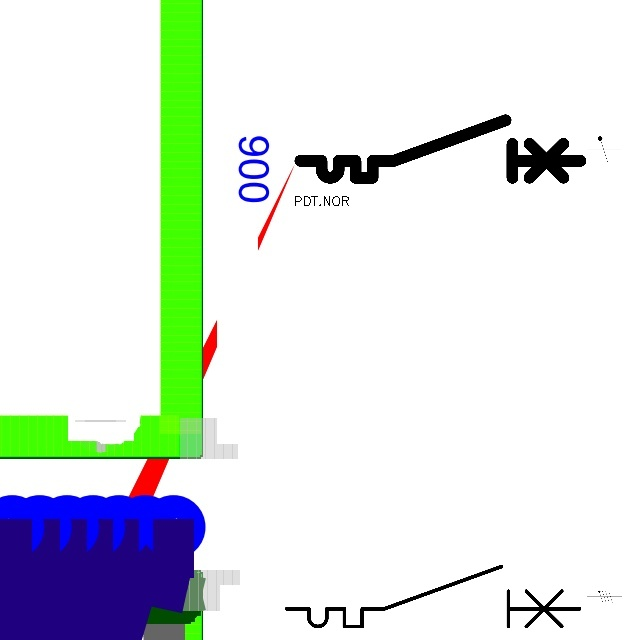interruptor_termomagnetico: (279, 559, 587, 634), (293, 113, 587, 185)
